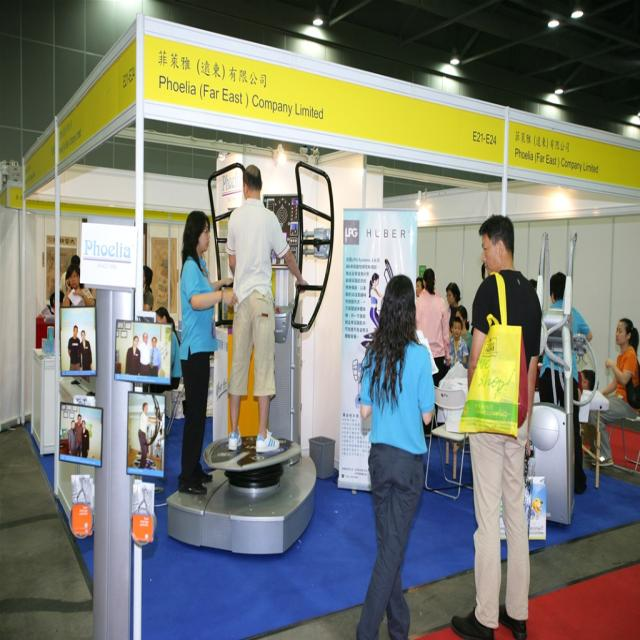body: (446, 209, 546, 639), (348, 271, 439, 639), (224, 160, 308, 458), (177, 208, 239, 496), (537, 270, 594, 496), (587, 316, 640, 467), (124, 327, 166, 470), (414, 267, 452, 387), (44, 306, 97, 378), (534, 362, 600, 411), (147, 306, 182, 394), (40, 251, 82, 307), (63, 413, 95, 465), (365, 266, 387, 337), (61, 264, 95, 308), (448, 315, 470, 371), (454, 303, 472, 367), (445, 281, 463, 339), (142, 264, 154, 313), (413, 275, 425, 301), (480, 261, 488, 282), (530, 278, 538, 294)
